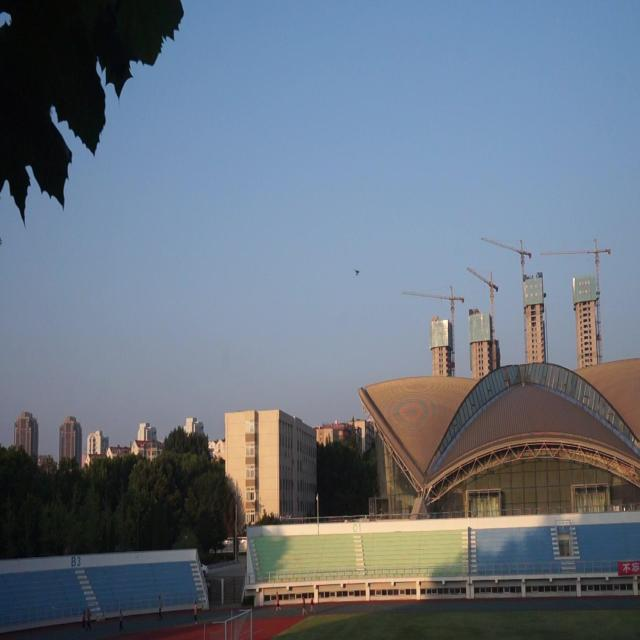drone: (351, 263, 362, 280)
